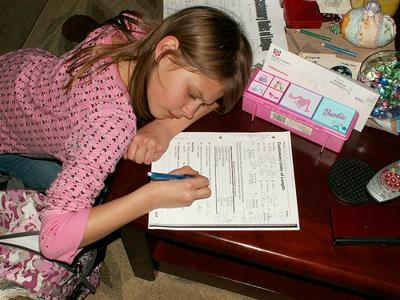person: (2, 6, 253, 262)
